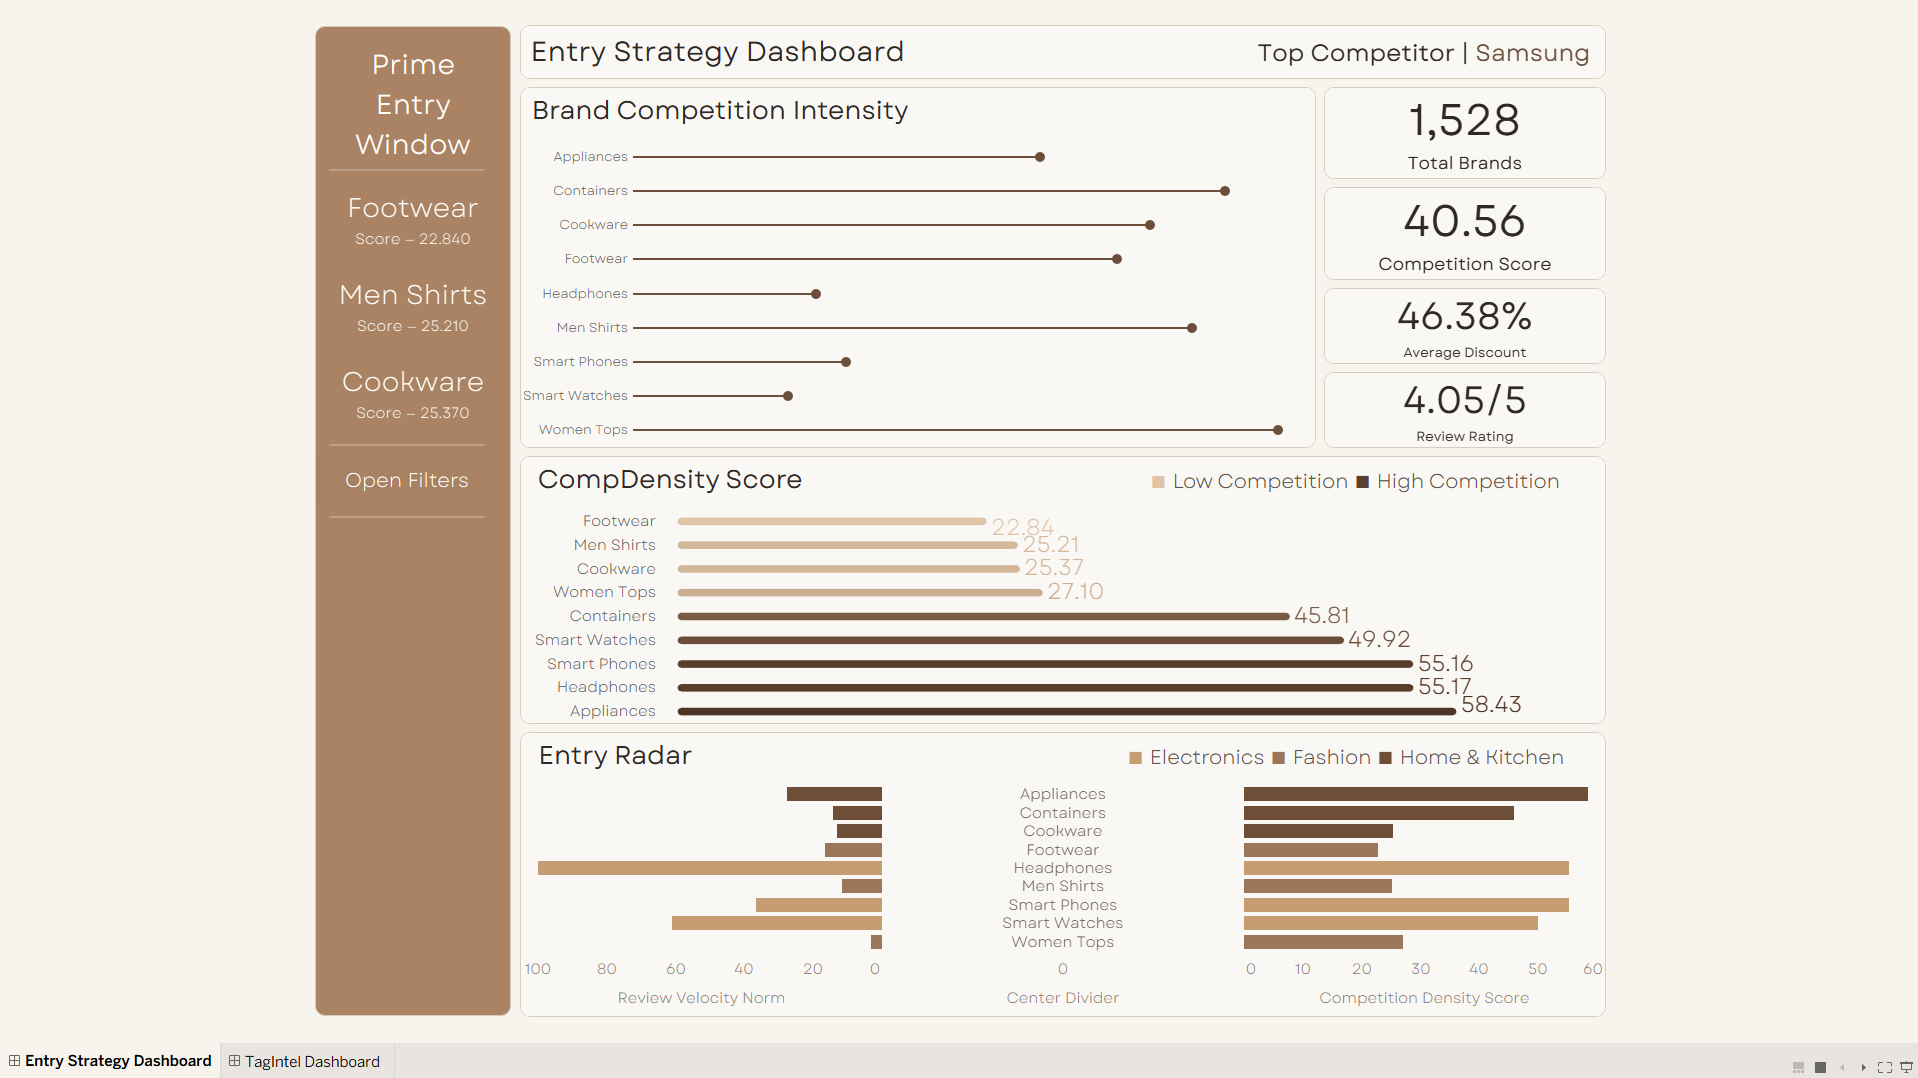

The page's visual inventory and layout, read from the dashboard file:
{"tool":"tableau","page":{"name":"Entry Strategy Dashboard","canvas":[1300,1000],"ordinal":0},"visuals":[{"type":"title","box":[206,0,1094,62]},{"type":"worksheet","title":"Top Niches","mark":"Text","rows":["SubCategory"],"box":[6,6,194,424]},{"type":"worksheet","title":"KPI - TopBrand","mark":"Automatic","box":[936,15,355,36]},{"type":"worksheet","title":"Brand Intensity","mark":"Bar","rows":["SubCategory"],"cols":["Calculation_1588814202028035","Calculation_1588814202028035"],"box":[206,62,804,369]},{"type":"worksheet","title":"KPI - BrandCount","mark":"Text","box":[1010,62,290,100]},{"type":"blank","box":[19,148,156,2]},{"type":"worksheet","title":"KPI - CompScore","mark":"Automatic","box":[1010,162,290,101]},{"type":"worksheet","title":"KPI - AvgDiscount","mark":"Automatic","box":[1010,263,290,84]},{"type":"worksheet","title":"KPI - ReviewRating","mark":"Automatic","box":[1010,347,290,84]},{"type":"blank","box":[19,423,156,2]},{"type":"text","box":[6,430,194,564]},{"type":"worksheet","title":"CompDensity Score","mark":"Line","rows":["SubCategory"],"box":[206,431,1094,276]},{"type":"dashboard-object","box":[7,439,181,41]},{"type":"blank","box":[19,495,156,2]},{"type":"filter","title":"KPI - BrandCount","param":"[federated.1irny0m0o8b0yg1gtyf6l1j61dux].[none:Category:nk]","box":[4,509,185,155]},{"type":"filter","title":"KPI - BrandCount","param":"[federated.1irny0m0o8b0yg1gtyf6l1j61dux].[none:SubCategory:nk]","box":[4,664,185,281]},{"type":"worksheet","title":"Entry Radar","mark":"Automatic","rows":["SubCategory"],"cols":["Review_Velocity_Norm","Calculation_1275176749568000","Competition_Density_Score"],"box":[206,707,1094,292.9]}]}

Visuals, with their boxes on the page's 1300x1000 design canvas (x1, y1, x2, y2). These are canvas units, not pixel positions in the 1918x1078 screenshot, which may show the page scaled, cropped or inside an application window:
title: region(206, 0, 1300, 62)
"Top Niches" worksheet (Text marks): region(6, 6, 200, 430)
"KPI - TopBrand" worksheet: region(936, 15, 1291, 51)
"Brand Intensity" worksheet (Bar marks): region(206, 62, 1010, 431)
"KPI - BrandCount" worksheet (Text marks): region(1010, 62, 1300, 162)
blank: region(19, 148, 175, 150)
"KPI - CompScore" worksheet: region(1010, 162, 1300, 263)
"KPI - AvgDiscount" worksheet: region(1010, 263, 1300, 347)
"KPI - ReviewRating" worksheet: region(1010, 347, 1300, 431)
blank: region(19, 423, 175, 425)
text: region(6, 430, 200, 994)
"CompDensity Score" worksheet (Line marks): region(206, 431, 1300, 707)
dashboard-object: region(7, 439, 188, 480)
blank: region(19, 495, 175, 497)
"KPI - BrandCount" filter: region(4, 509, 189, 664)
"KPI - BrandCount" filter: region(4, 664, 189, 945)
"Entry Radar" worksheet: region(206, 707, 1300, 1000)
